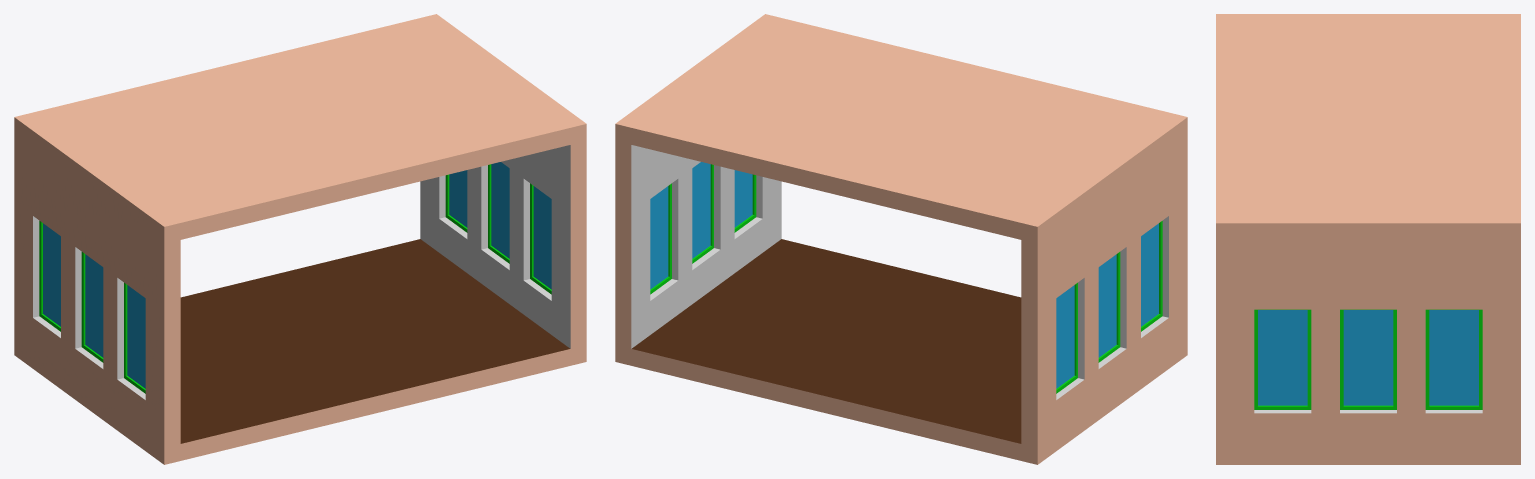
The model's file is mshLaboratoySegmentWindows.fbx.
3 renders of one model, left to right at view 1: azimuth 30°, elevation 25°; view 2: azimuth 150°, elevation 25°; view 3: azimuth 270°, elevation 25°, orthographic.
Visible parts, largest first — view 1: WindowsCeiling, WindowsFloor, WindowsWallRight, WindowsWallLeft; view 2: WindowsCeiling, WindowsFloor, WindowsWallRight, WindowsWallLeft; view 3: WindowsWallLeft, WindowsCeiling, WindowsWallRight.
Part boxes in pixels (x1=…): WindowsCeiling: x1=31, y1=18, x2=570, y2=239; WindowsFloor: x1=180, y1=239, x2=570, y2=460; WindowsWallRight: x1=14, y1=113, x2=180, y2=464; WindowsWallLeft: x1=420, y1=14, x2=586, y2=365; WindowsCeiling: x1=631, y1=18, x2=1170, y2=239; WindowsFloor: x1=631, y1=239, x2=1021, y2=460; WindowsWallRight: x1=1021, y1=113, x2=1187, y2=464; WindowsWallLeft: x1=615, y1=14, x2=781, y2=365; WindowsWallLeft: x1=1216, y1=215, x2=1520, y2=464; WindowsCeiling: x1=1216, y1=22, x2=1520, y2=215; WindowsWallRight: x1=1216, y1=14, x2=1520, y2=21.
Size of the model in its own units: 1300 by 700 by 800.
